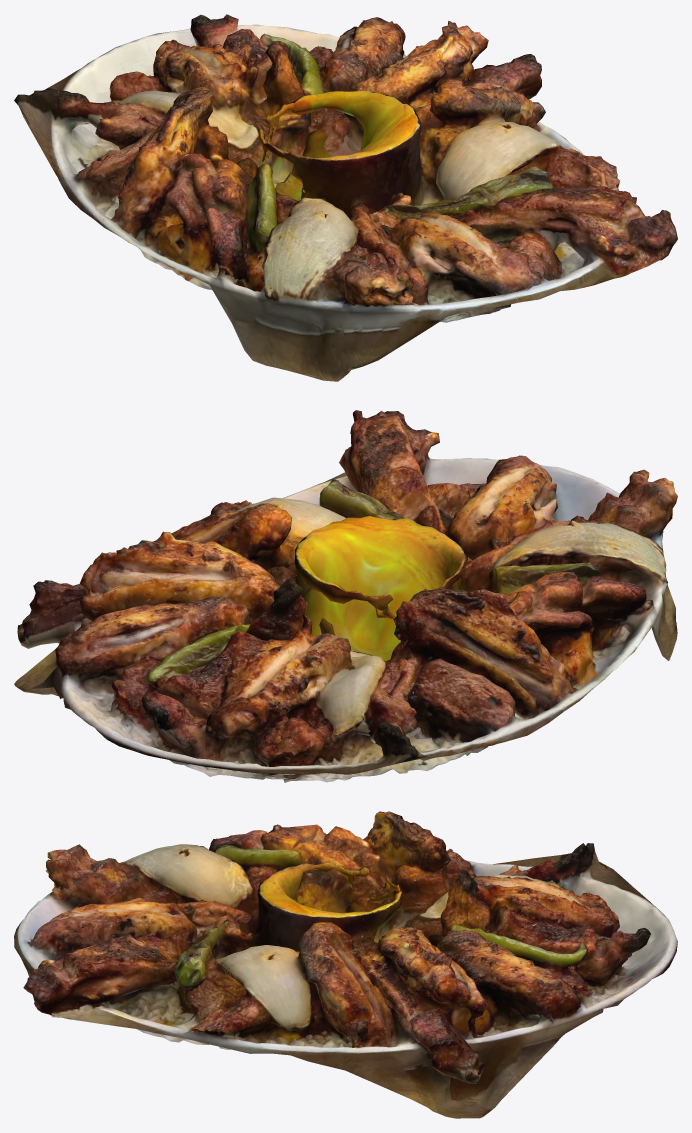
Rendered from lara-jumbo-platter.glb.
3 views of the same model, one above another, from view 1: azimuth 30°, elevation 25°; view 2: azimuth 150°, elevation 25°; view 3: azimuth 270°, elevation 25° (orthographic). The views are drawn at different scales.
Visible parts, largest first — view 1: baked_mesh; view 2: baked_mesh; view 3: baked_mesh.
Part boxes in pixels (x1,y1,x2,y2): baked_mesh: (14, 14, 677, 381); baked_mesh: (14, 410, 677, 782); baked_mesh: (14, 811, 677, 1118).
Bounding box in the file's own units: 0.8271 × 0.2561 × 1.11.
1 material, 1 textured.
